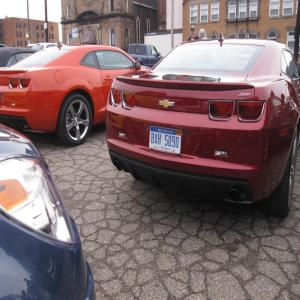Vehicle-registration-plate: (147, 126, 187, 149)
